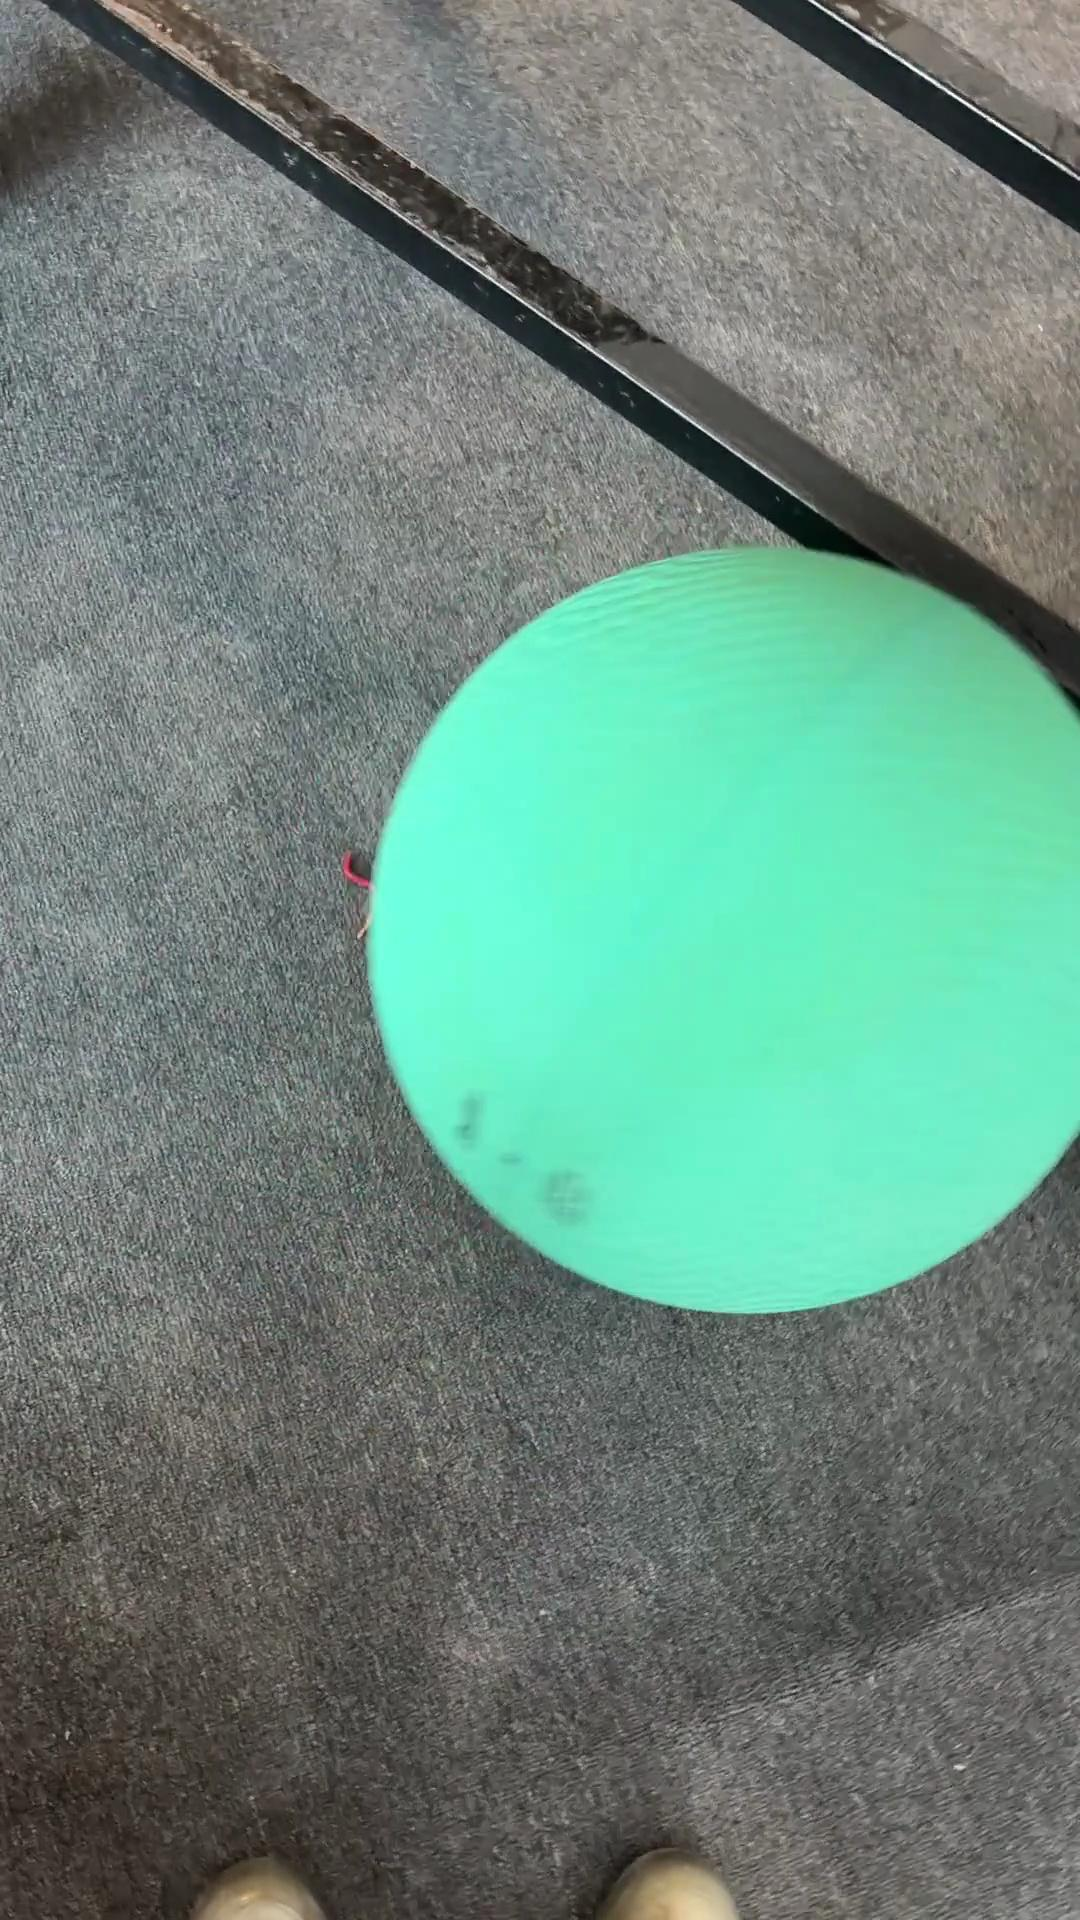ALGAE: (360, 542, 1077, 1317)
